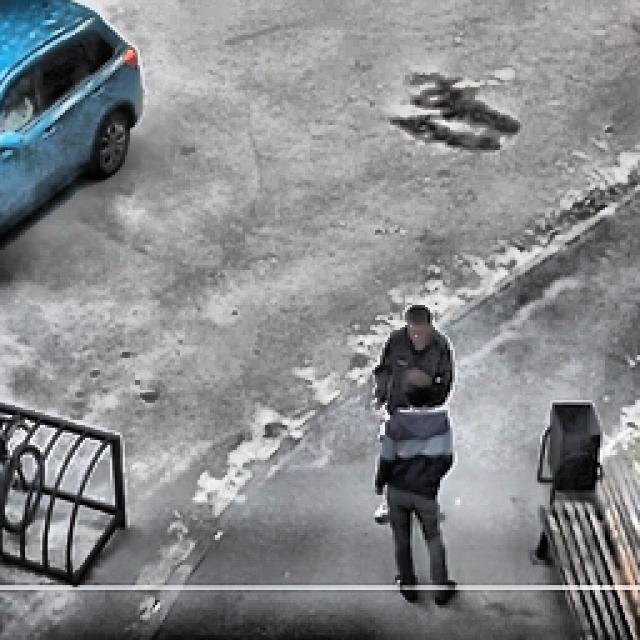Human: (360, 298, 480, 616)
